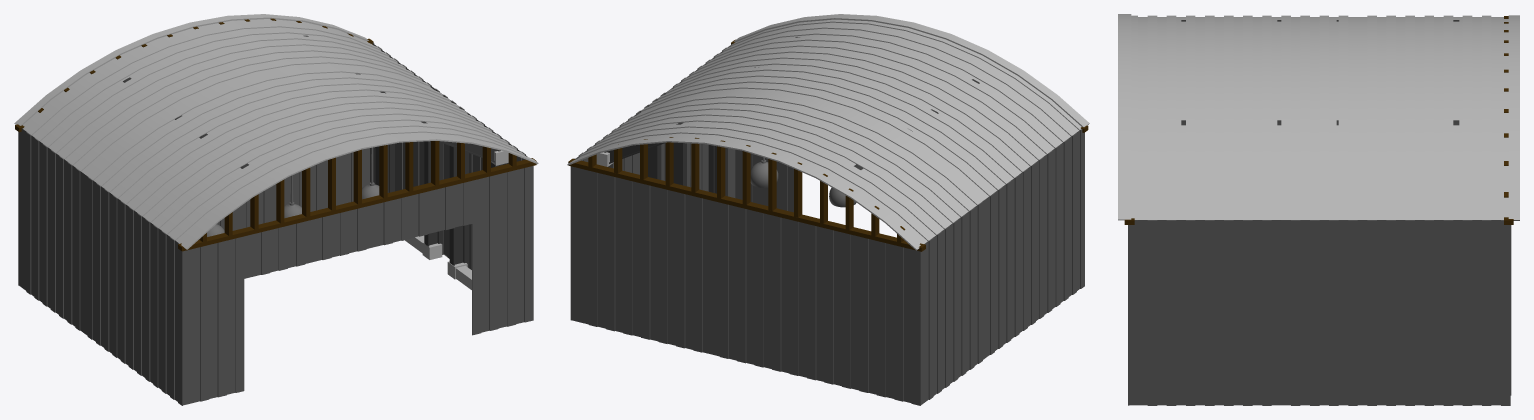
The model's file is Hanger_Warehouse_01.fbx.
The picture shows the model from 3 angles, left to right: view 1: azimuth 30°, elevation 25°; view 2: azimuth 150°, elevation 25°; view 3: azimuth 270°, elevation 25°; orthographic projection. The views are drawn at different scales.
Parts seen in each view (by area): view 1: Roof, polySurface2, polySurface5, polySurface6, Roof_Support, polySurface4, pCube1, polySurface8, polySurface9, polySurface7, polySurface1, polySurface10 (+3 smaller); view 2: Roof, polySurface4, polySurface2, Roof_Support1, pCube16, polySurface1, polySurface5, Steel_Beam5, Steel_Beam6, Light_Fixture2; view 3: Roof, polySurface1, polySurface5.
Boxes of the visible parts, bbox=[...] form: Roof: bbox=[14, 14, 538, 249]; polySurface2: bbox=[19, 128, 182, 405]; polySurface5: bbox=[472, 166, 533, 335]; polySurface6: bbox=[183, 236, 244, 405]; Roof_Support: bbox=[199, 141, 516, 242]; polySurface4: bbox=[18, 132, 369, 285]; pCube1: bbox=[178, 158, 536, 251]; polySurface8: bbox=[305, 206, 366, 263]; polySurface9: bbox=[366, 191, 427, 248]; polySurface7: bbox=[244, 221, 305, 278]; polySurface1: bbox=[369, 42, 527, 269]; polySurface10: bbox=[428, 181, 472, 233]; Roof: bbox=[567, 14, 1089, 250]; polySurface4: bbox=[571, 166, 920, 405]; polySurface2: bbox=[921, 129, 1084, 404]; Roof_Support1: bbox=[588, 137, 905, 242]; pCube16: bbox=[568, 158, 925, 251]; polySurface1: bbox=[570, 44, 734, 320]; polySurface5: bbox=[735, 149, 793, 212]; Steel_Beam5: bbox=[673, 67, 938, 186]; Steel_Beam6: bbox=[708, 37, 979, 196]; Light_Fixture2: bbox=[750, 157, 778, 187]; Roof: bbox=[1118, 14, 1519, 220]; polySurface1: bbox=[1129, 220, 1510, 405]; polySurface5: bbox=[1128, 225, 1129, 405].
Size of the model in its own units: 27.5 by 16.27 by 23.21.
